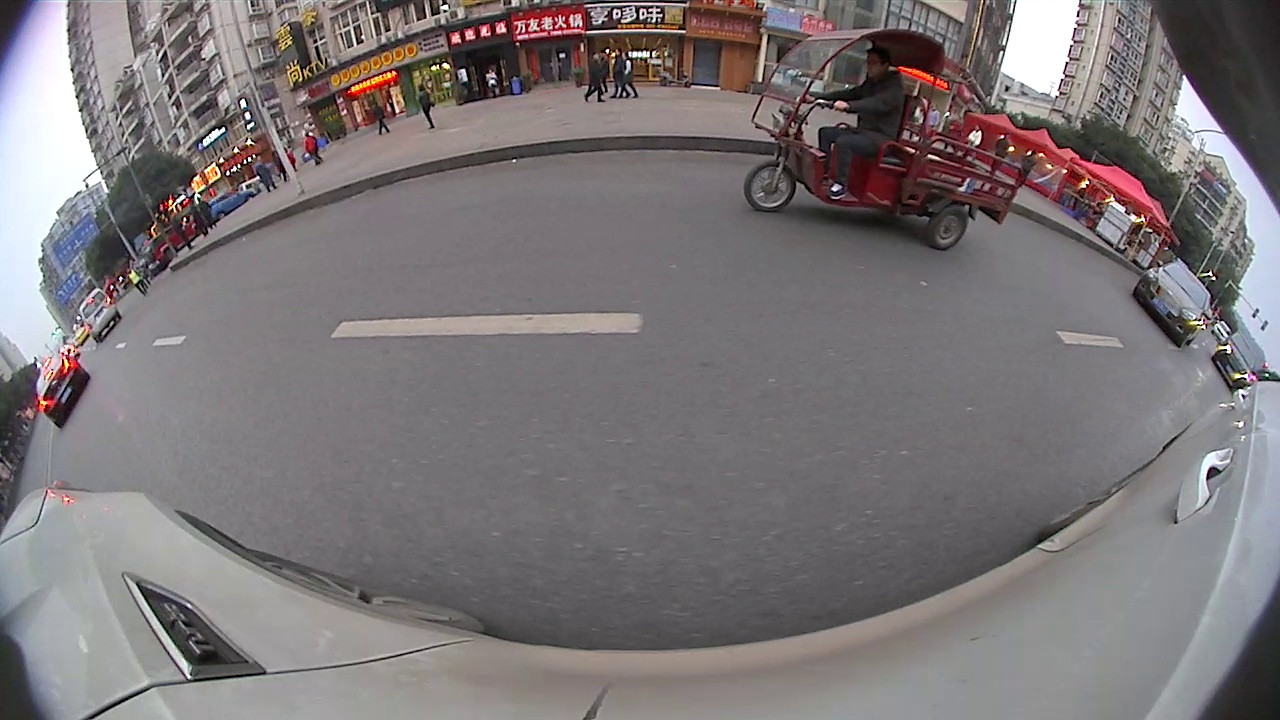car: (1133, 251, 1215, 349), (27, 350, 93, 434), (1212, 327, 1261, 391), (74, 286, 124, 345)
front: (742, 159, 800, 215)
rear: (921, 202, 972, 256)
rider: (742, 28, 1028, 251)
